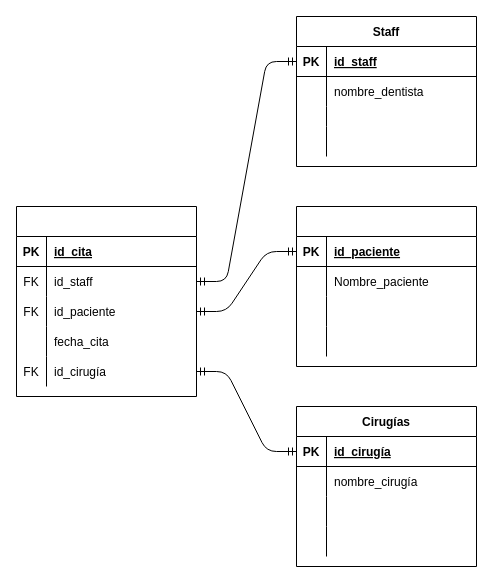
Some shapes in this 493 by 583 pixel diagram are drawn without their labels. The box of each missing label's shape, as (x1, y1, x2, y2) in pixels:
CITAS: (16, 206, 196, 396)
Pacientes: (296, 206, 476, 366)
